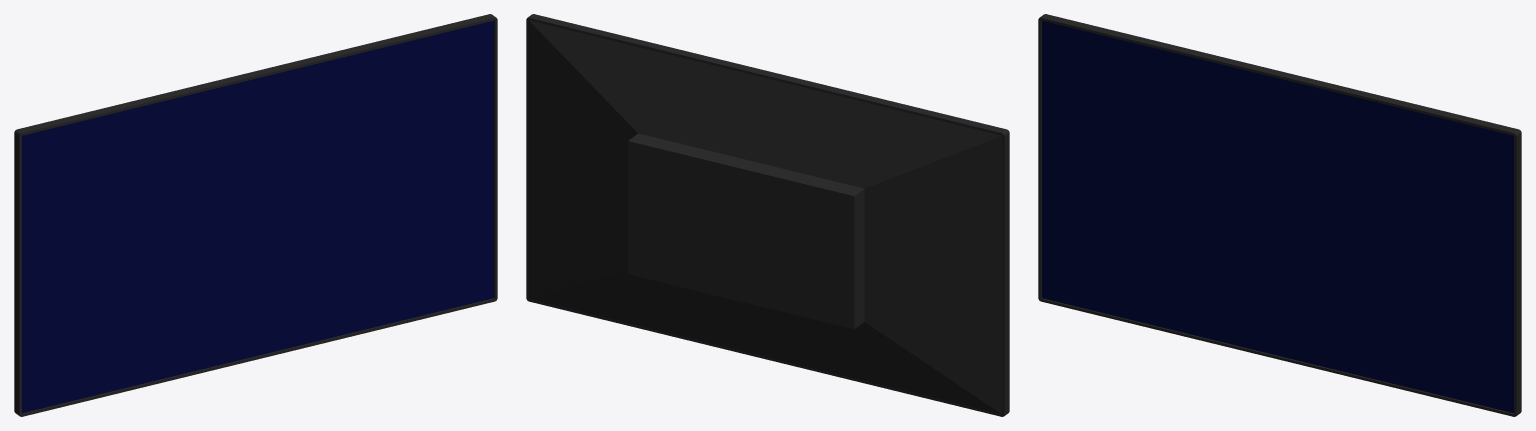
The picture shows the model from 3 angles, left to right: view 1: azimuth 30°, elevation 25°; view 2: azimuth 150°, elevation 25°; view 3: azimuth 330°, elevation 25°; orthographic projection.
Parts seen in each view (by area): view 1: Cube; view 2: Cube; view 3: Cube.
Part boxes in pixels (<box>): Cube: <box>14,14,497,416</box>; Cube: <box>526,14,1009,416</box>; Cube: <box>1038,14,1521,416</box>.
Size of the model in its own units: 194 by 20.72 by 110.
